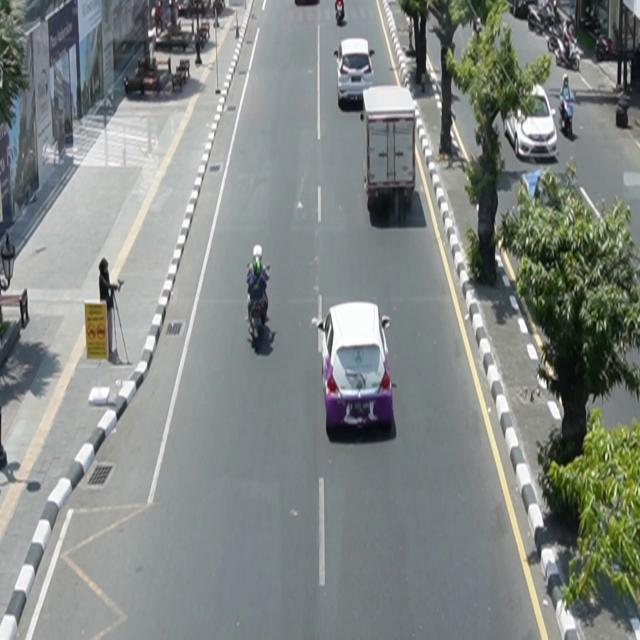car: (314, 302, 398, 434), (504, 82, 558, 162), (334, 38, 376, 107)
truck: (361, 85, 417, 222)
